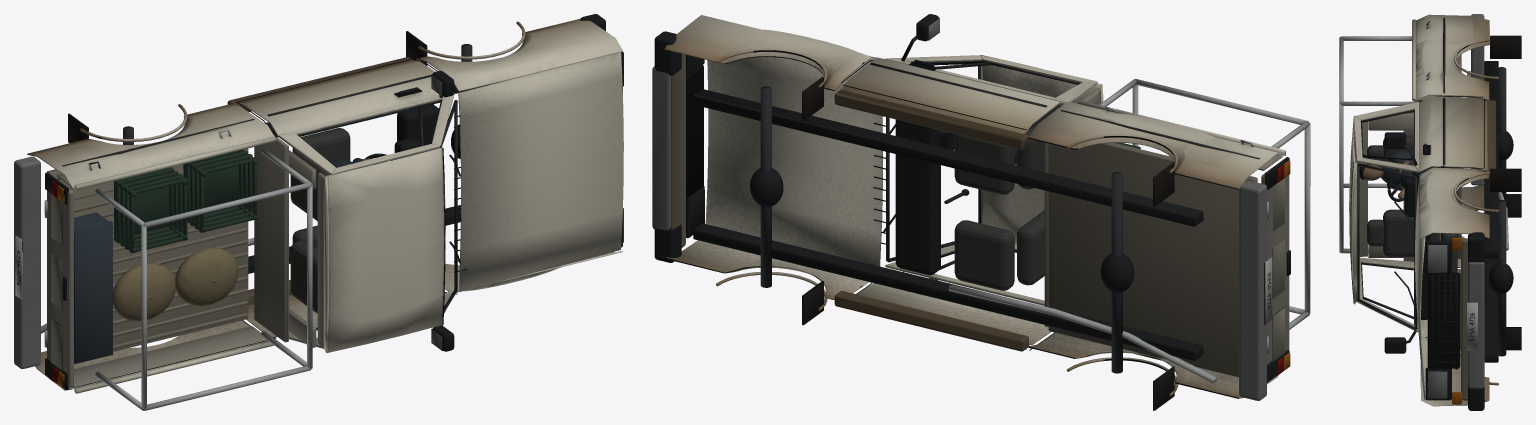
Rendered from pickup_body.obj.
3 views of the same model, side by side, from view 1: azimuth 30°, elevation 25°; view 2: azimuth 150°, elevation 25°; view 3: azimuth 270°, elevation 25° (orthographic). The views are drawn at different scales.
Parts seen in each view (by area): view 1: PIECE_L6_pickup_body; view 2: PIECE_L6_pickup_body; view 3: PIECE_L6_pickup_body.
Boxes of the visible parts, <box> form: PIECE_L6_pickup_body: <box>14,14,623,410</box>; PIECE_L6_pickup_body: <box>652,14,1310,410</box>; PIECE_L6_pickup_body: <box>1339,14,1521,410</box>.
Size of the model in its own units: 5.34 by 2.35 by 1.78.
Materials: 1 (1 with a texture image).
